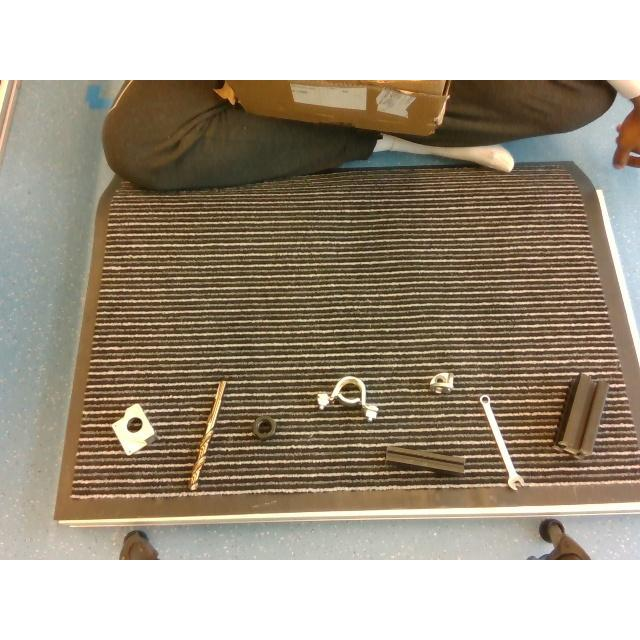Drill: (188, 380, 226, 490)
F20_20_B: (385, 445, 465, 473)
Housing: (316, 374, 378, 420)
M20: (252, 416, 276, 439)
S40_40_B: (556, 373, 608, 455)
